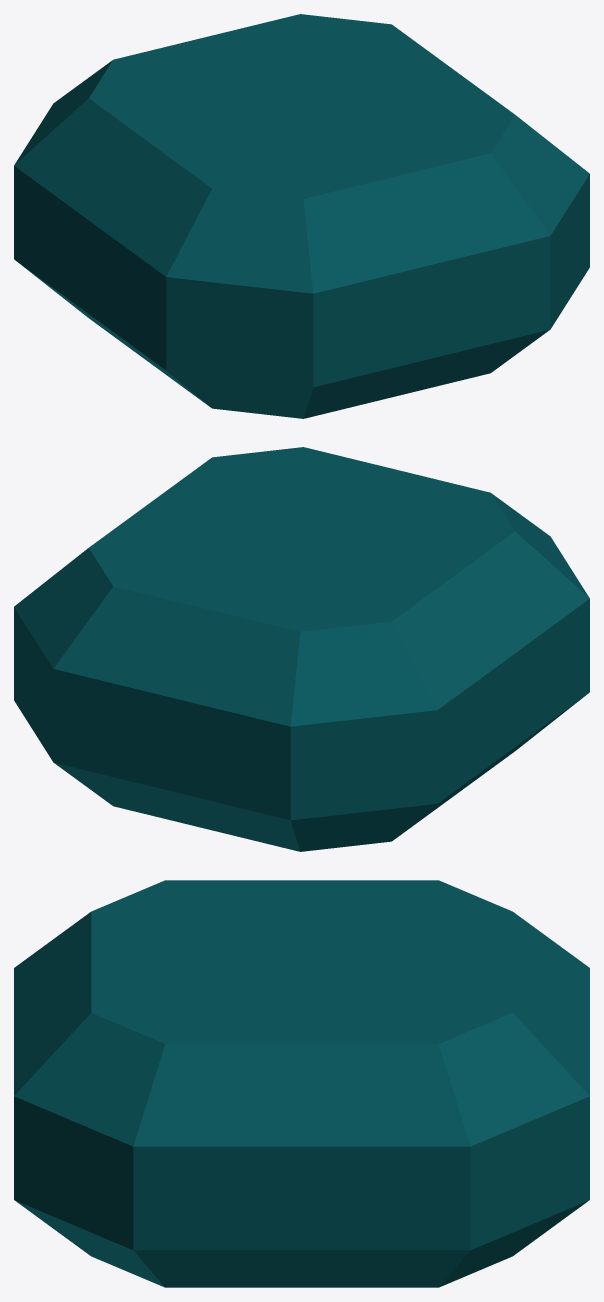
Rendered from treasure_chest_gem_C.fbx.
The picture shows the model from 3 angles, top to bottom: view 1: azimuth 30°, elevation 25°; view 2: azimuth 150°, elevation 25°; view 3: azimuth 270°, elevation 25°; orthographic projection. The views are drawn at different scales.
Visible parts, largest first — view 1: treasure_chest_gem_C; view 2: treasure_chest_gem_C; view 3: treasure_chest_gem_C.
Boxes of the visible parts, x1,y1,x2,y2 form: treasure_chest_gem_C: (14, 14, 589, 418); treasure_chest_gem_C: (14, 447, 589, 851); treasure_chest_gem_C: (14, 880, 589, 1287).
Size of the model in its own units: 7.88 by 3.91 by 8.37.
